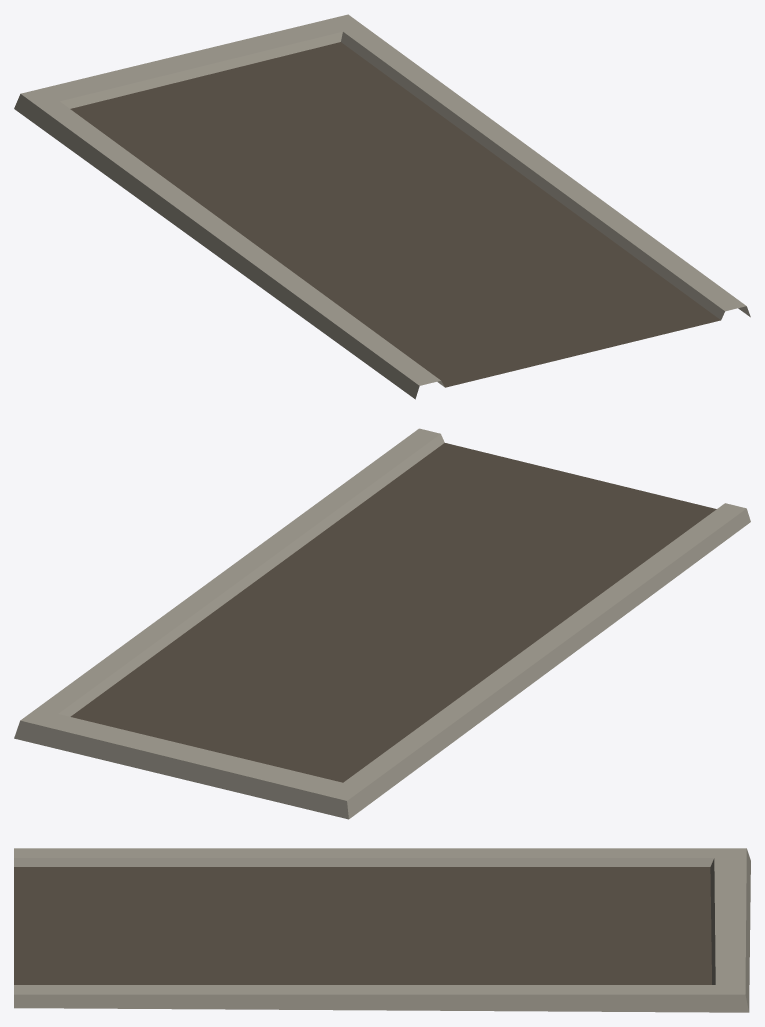
The model's file is ParkRoad_5_B.fbx.
The picture shows the model from 3 angles, top to bottom: view 1: azimuth 30°, elevation 25°; view 2: azimuth 150°, elevation 25°; view 3: azimuth 270°, elevation 25°; orthographic projection. The views are drawn at different scales.
Visible parts, largest first — view 1: ParkRoad_5_B; view 2: ParkRoad_5_B; view 3: ParkRoad_5_B.
Part boxes in pixels (left/top/right/bottom): ParkRoad_5_B: left=14, top=14, right=750, bottom=399; ParkRoad_5_B: left=14, top=428, right=750, bottom=819; ParkRoad_5_B: left=14, top=848, right=750, bottom=1012.
Bounding box in the file's own units: 200 × 9.99 × 415.
